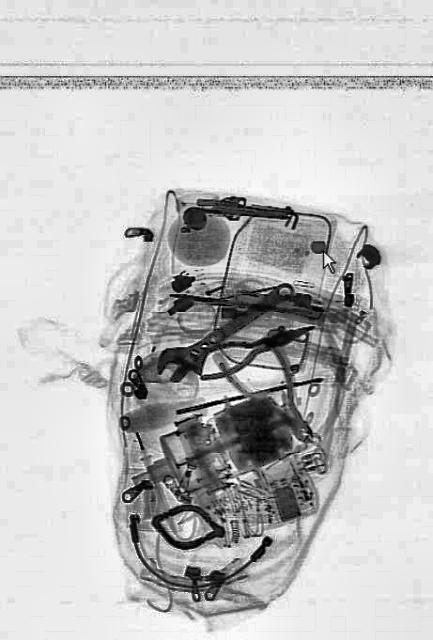Pliers: (216, 316, 328, 466), (193, 310, 317, 382)
Wrench: (153, 264, 299, 398)
